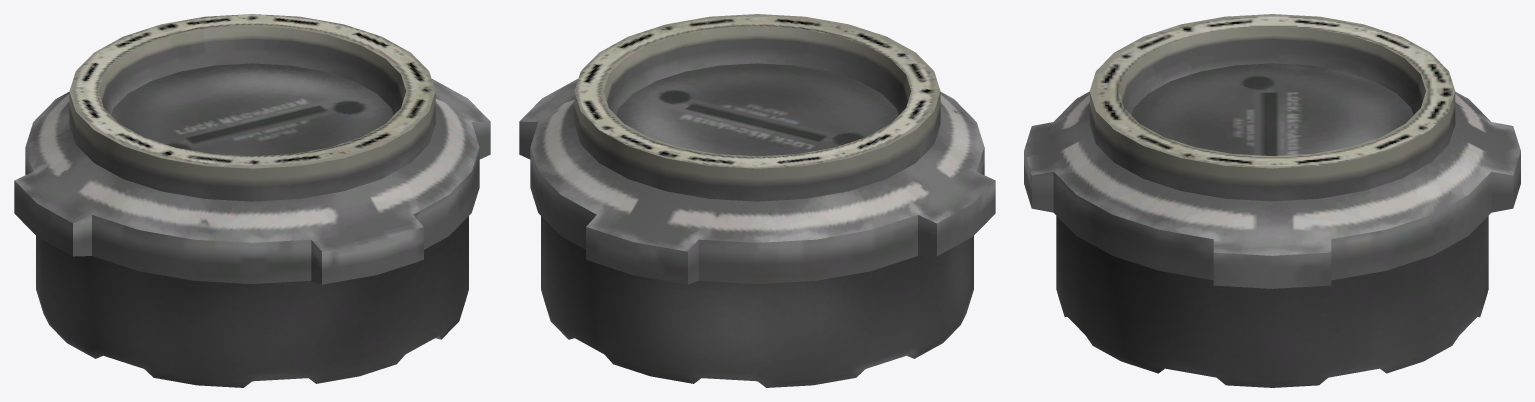
The model's file is Docking_Port_Jr.glb.
3 renders of one model, left to right at view 1: azimuth 30°, elevation 25°; view 2: azimuth 150°, elevation 25°; view 3: azimuth 270°, elevation 25°, orthographic.
Parts seen in each view (by area): view 1: port, cap; view 2: port, cap; view 3: port, cap.
Part boxes in pixels (bbox=[...]): port: bbox=[14, 14, 490, 284]; cap: bbox=[36, 216, 468, 387]; port: bbox=[519, 14, 995, 284]; cap: bbox=[541, 216, 973, 387]; port: bbox=[1024, 14, 1520, 288]; cap: bbox=[1056, 216, 1488, 387].
Bounding box in the file's own units: 0.685 × 0.3138 × 0.685.
Materials: 2 (2 with a texture image).
